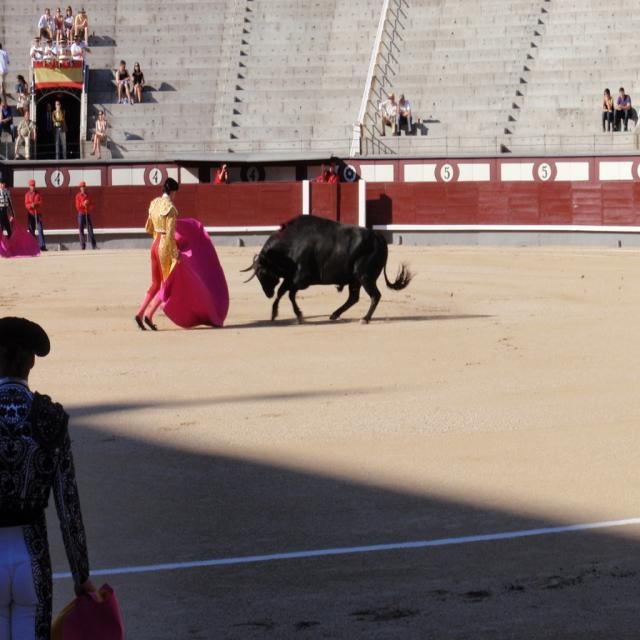Deer: (237, 214, 416, 325)
